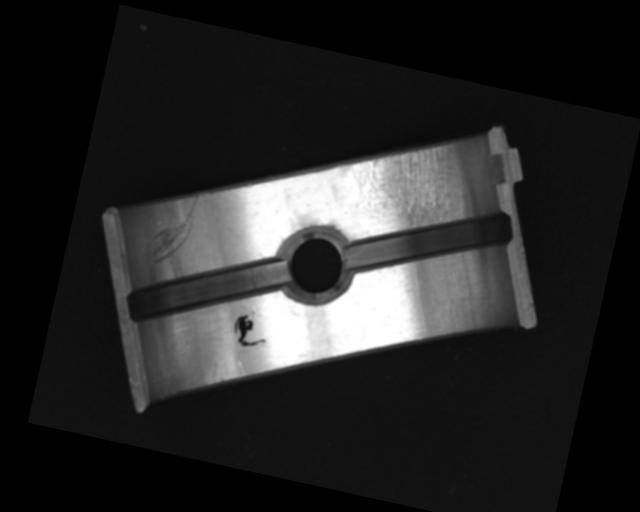blot: (229, 311, 272, 353)
gap: (341, 180, 521, 302), (120, 228, 295, 353)
hole: (274, 224, 357, 309)
nick: (141, 185, 200, 275)
scratch: (336, 123, 462, 233)
